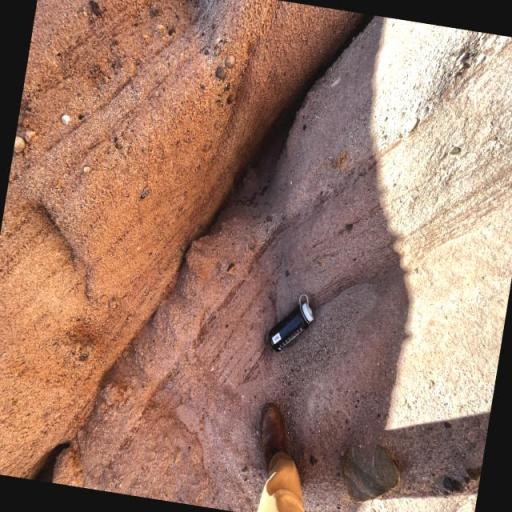bottle: (266, 290, 318, 357)
